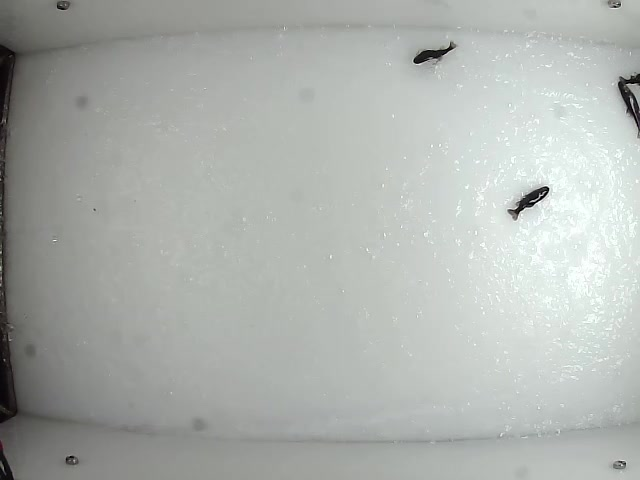fish: (505, 184, 549, 223), (412, 39, 457, 64)
